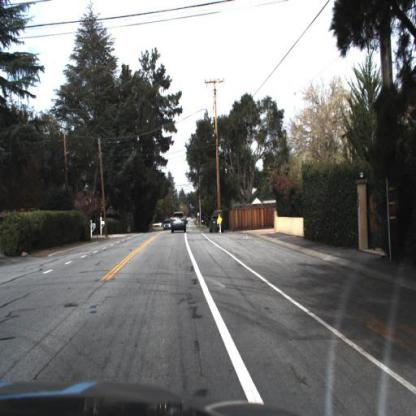car: (169, 207, 189, 236)
